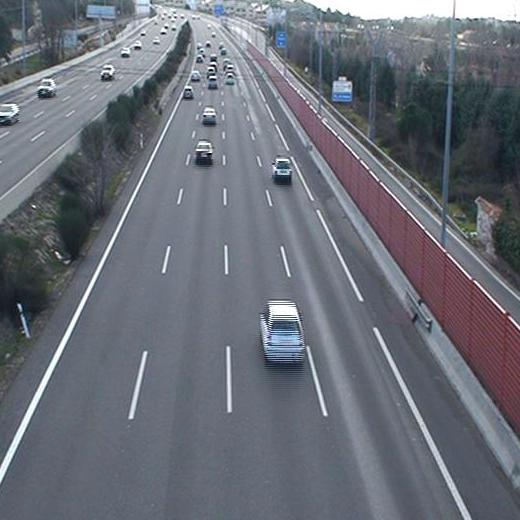car: (260, 300, 305, 364), (271, 159, 294, 181), (196, 141, 213, 161), (202, 106, 216, 122), (190, 68, 201, 83), (208, 75, 218, 90), (184, 86, 194, 99), (224, 74, 234, 85)
